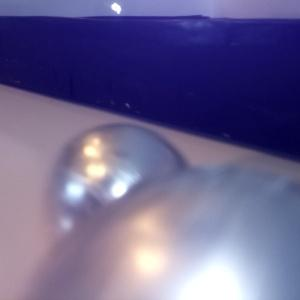zone: (1, 14, 300, 164)
